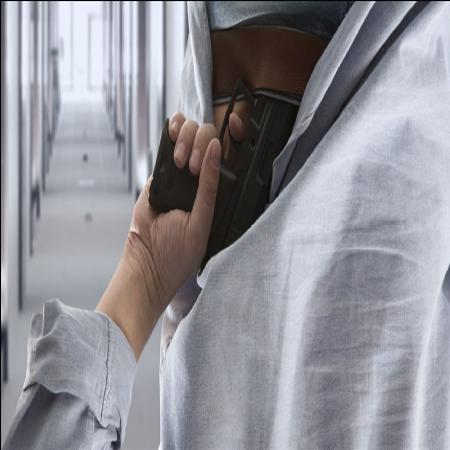Pistol: (144, 69, 314, 281)
